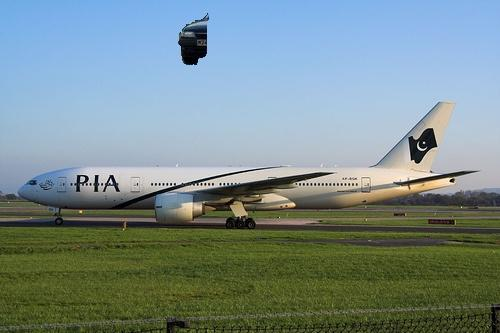tampered: (179, 14, 209, 65)
